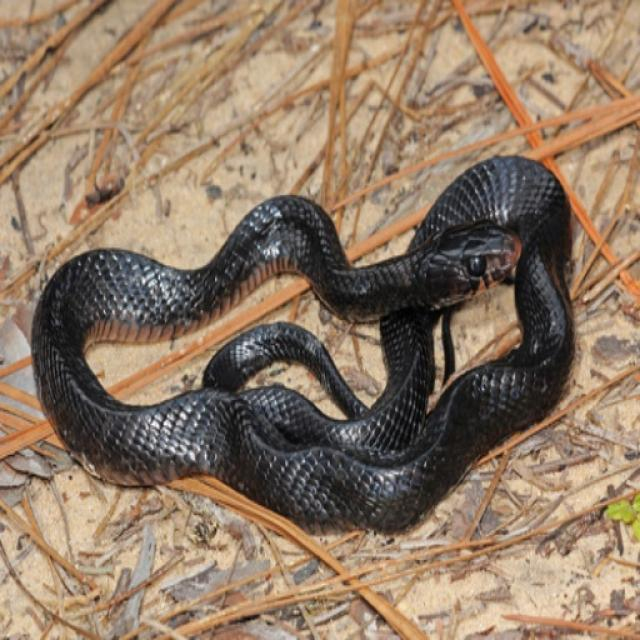snake: (31, 167, 593, 517)
